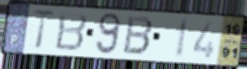4: (191, 20, 216, 60)
9: (94, 11, 123, 56)
B: (54, 10, 90, 53), (121, 14, 155, 57)
I: (174, 16, 190, 60)
T: (30, 9, 57, 51)
